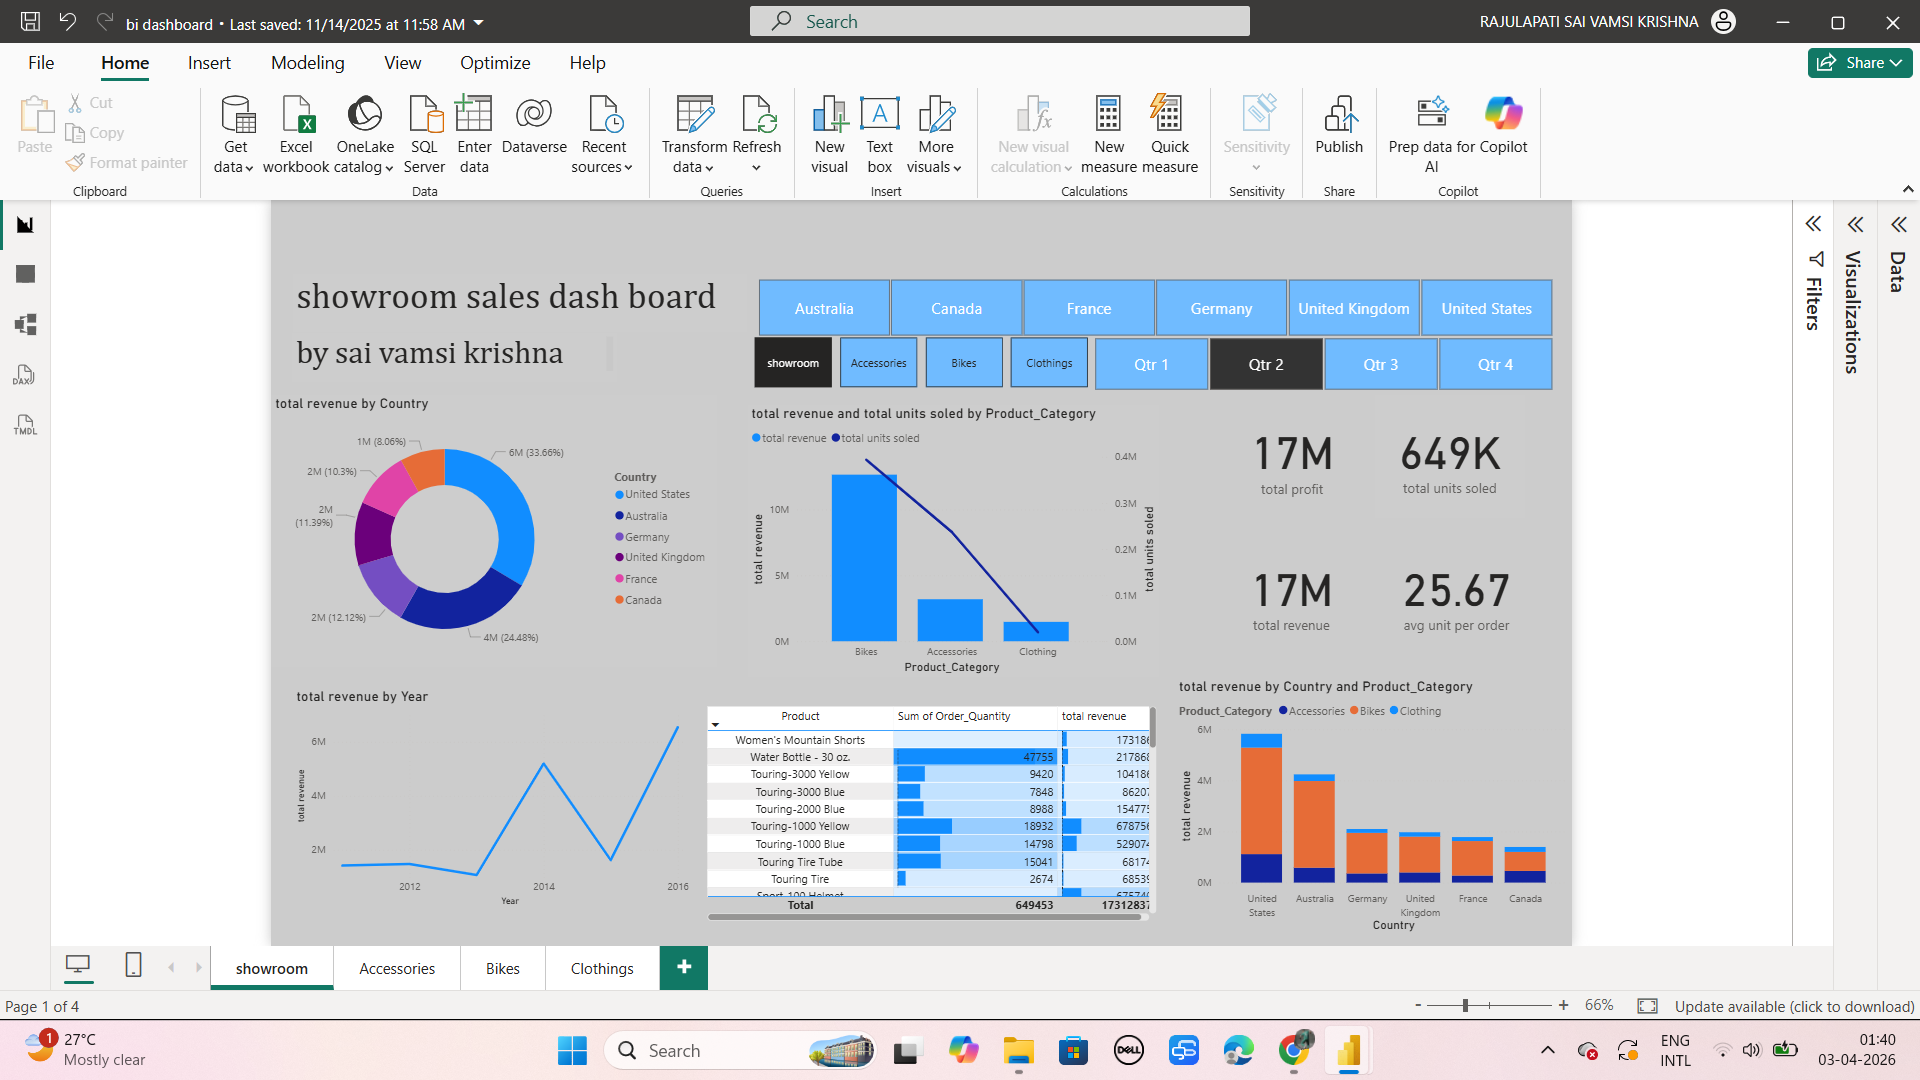

The page's visual inventory and layout, read from the dashboard file:
{"tool":"powerbi","page":{"name":"showroom","canvas":[1570,900],"ordinal":0},"visuals":[{"type":"slicer","fields":{"Values":["BikeSales-DB.Country"]},"box":[562.5,89,1007.4,81.4],"z":0},{"type":"slicer","fields":{"Values":["BikeSales-DB.Date.Variation.Date Hierarchy.Quarter"]},"box":[968.2,159.9,601.7,75.4],"z":1000},{"type":"card","fields":{"Values":["BikeSales-DB.total revenue"]},"box":[1131,399.6,200.6,149.3],"z":2000},{"type":"card","fields":{"Values":["BikeSales-DB.avg unit per order"]},"box":[1339.1,399.6,182.5,149.3],"z":3000},{"type":"card","fields":{"Values":["BikeSales-DB.total units soled"]},"box":[1331.3,235.6,181.8,148.1],"z":4000},{"type":"card","fields":{"Values":["BikeSales-DB.total profit"]},"box":[1138.6,235.3,187,149.3],"z":5000},{"type":"donutChart","fields":{"Category":["BikeSales-DB.Country"],"Y":["BikeSales-DB.total revenue"]},"box":[0,235.3,538.4,328.8],"z":6000},{"type":"lineClusteredColumnComboChart","fields":{"Category":["BikeSales-DB.Product_Category"],"Y":["BikeSales-DB.total revenue"],"Y2":["BikeSales-DB.total units soled"]},"box":[574.6,247.3,497.7,328.8],"z":7000},{"type":"lineChart","fields":{"Category":["BikeSales-DB.Year"],"Y":["BikeSales-DB.total revenue"]},"box":[25,588.3,483.3,268.3],"z":8000},{"type":"tableEx","fields":{"Values":["BikeSales-DB.Product","Sum(BikeSales-DB.Order_Quantity)","BikeSales-DB.total revenue"]},"box":[520,606.7,553.3,268.3],"z":9000},{"type":"textbox","box":[25.2,89.2,548.7,70.7],"z":10000},{"type":"textbox","box":[25.6,159.9,392.1,60.3],"z":11000},{"type":"columnChart","fields":{"Category":["BikeSales-DB.Country"],"Series":["BikeSales-DB.Product_Category"],"Y":["BikeSales-DB.total revenue"]},"box":[1090.3,576.1,479.6,312.2],"z":12000},{"type":"pageNavigator","box":[584,166.6,402.3,60.6],"z":13000}]}

Visuals, with their boxes on the page's 1570x900 design canvas (x1, y1, x2, y2). These are canvas units, not pixel positions in the 1920x1080 screenshot, which may show the page scaled, cropped or inside an application window:
slicer - BikeSales-DB.Country: 562:89:1570:170
slicer - BikeSales-DB.Date.Variation.Date Hierarchy.Quarter: 968:160:1570:235
card - BikeSales-DB.total revenue: 1131:400:1332:549
card - BikeSales-DB.avg unit per order: 1339:400:1522:549
card - BikeSales-DB.total units soled: 1331:236:1513:384
card - BikeSales-DB.total profit: 1139:235:1326:385
donutChart - BikeSales-DB.Country x BikeSales-DB.total revenue: 0:235:538:564
lineClusteredColumnComboChart - BikeSales-DB.Product_Category x BikeSales-DB.total revenue: 575:247:1072:576
lineChart - BikeSales-DB.Year x BikeSales-DB.total revenue: 25:588:508:857
tableEx - BikeSales-DB.Product x Sum(BikeSales-DB.Order_Quantity): 520:607:1073:875
textbox: 25:89:574:160
textbox: 26:160:418:220
columnChart - BikeSales-DB.Country x BikeSales-DB.Product_Category: 1090:576:1570:888
pageNavigator: 584:167:986:227
